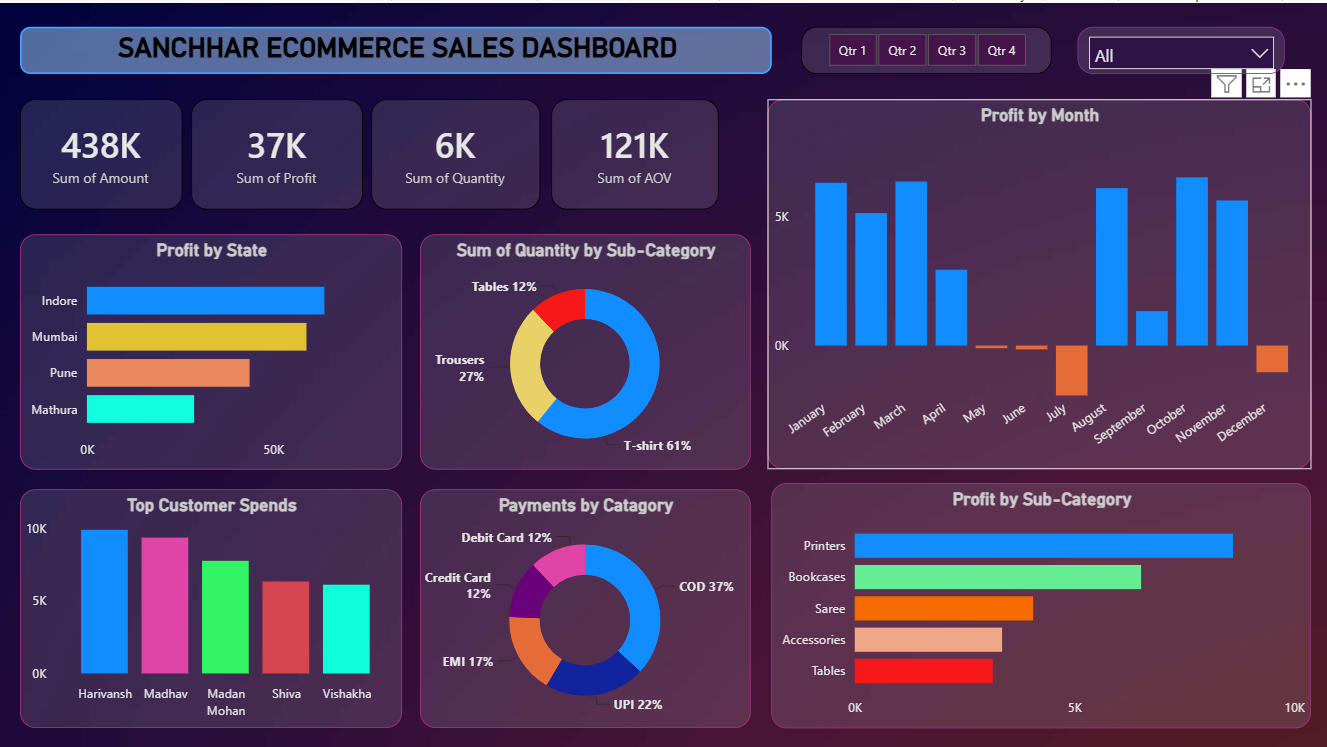

The dashboard page shown, as its layout file describes it:
{"tool":"powerbi","page":{"name":"Page 1","canvas":[1280,720],"ordinal":0},"visuals":[{"type":"textbox","title":"SANCHHAR ECOMMERCE SALES DASHBOARD","box":[18.8,22.9,725.6,45.8],"z":0},{"type":"clusteredColumnChart","title":"Profit by Month","fields":{"Category":["Orders.Order Date.Variation.Date Hierarchy.Month"],"Y":["Sum(Details.Profit)","select"]},"box":[740.8,92.9,524.8,357.1],"z":1000},{"type":"barChart","title":"Profit by Sub-Category","fields":{"Category":["Details.Sub-Category"],"Y":["Sum(Details.Profit)"]},"box":[744.4,463.3,521.2,236.5],"z":2000},{"type":"donutChart","fields":{"Category":["Details.Sub-Category"],"Y":["Sum(Details.Quantity)"]},"box":[405.2,223.5,319.1,227.5],"z":3000},{"type":"donutChart","title":"Payments by Catagory","fields":{"Category":["Details.PaymentMode"],"Y":["Sum(Details.Quantity)"]},"box":[405.2,469.8,319.1,230.2],"z":4000},{"type":"cardVisual","fields":{"Data":["Sum(Details.Amount)"]},"box":[19.3,92.9,156.8,106.2],"z":5000},{"type":"cardVisual","fields":{"Data":["Sum(Details.Profit)"]},"box":[184.6,92.9,165.3,106.2],"z":6000},{"type":"cardVisual","fields":{"Data":["Sum(Details.Quantity)"]},"box":[358.3,92.9,162.9,106.2],"z":7000},{"type":"cardVisual","fields":{"Data":["Sum(Details.AOV)"]},"box":[532,92.9,161.7,106.2],"z":8000},{"type":"barChart","title":"Profit by State","fields":{"Category":["Orders.State"],"Y":["Sum(Details.Amount)"]},"box":[18.8,223.5,368.9,227.5],"z":9000},{"type":"columnChart","title":"Top Customer Spends","fields":{"Category":["Orders.CustomerName"],"Y":["Sum(Details.Amount)"]},"box":[18.8,469.8,368.9,230.2],"z":10000},{"type":"slicer","fields":{"Values":["Orders.Order Date.Variation.Date Hierarchy.Quarter"]},"box":[773.3,22.9,241.3,45.8],"z":11000},{"type":"slicer","fields":{"Values":["Orders.State"]},"box":[1040,22.9,200.3,45.8],"z":12000}]}

Visuals, with their boxes in screenshot pixels (x1, y1, x2, y2), scaled from the page's 1280x720 canvas onto the 1327x747 screenshot:
"SANCHHAR ECOMMERCE SALES DASHBOARD" textbox: 19/24/772/71
"Profit by Month" clusteredColumnChart: 768/96/1312/467
"Profit by Sub-Category" barChart: 772/481/1312/726
donutChart - Details.Sub-Category x Sum(Details.Quantity): 420/232/751/468
"Payments by Catagory" donutChart: 420/487/751/726
cardVisual - Sum(Details.Amount): 20/96/183/207
cardVisual - Sum(Details.Profit): 191/96/363/207
cardVisual - Sum(Details.Quantity): 371/96/540/207
cardVisual - Sum(Details.AOV): 552/96/719/207
"Profit by State" barChart: 19/232/402/468
"Top Customer Spends" columnChart: 19/487/402/726
slicer - Orders.Order Date.Variation.Date Hierarchy.Quarter: 802/24/1052/71
slicer - Orders.State: 1078/24/1286/71
